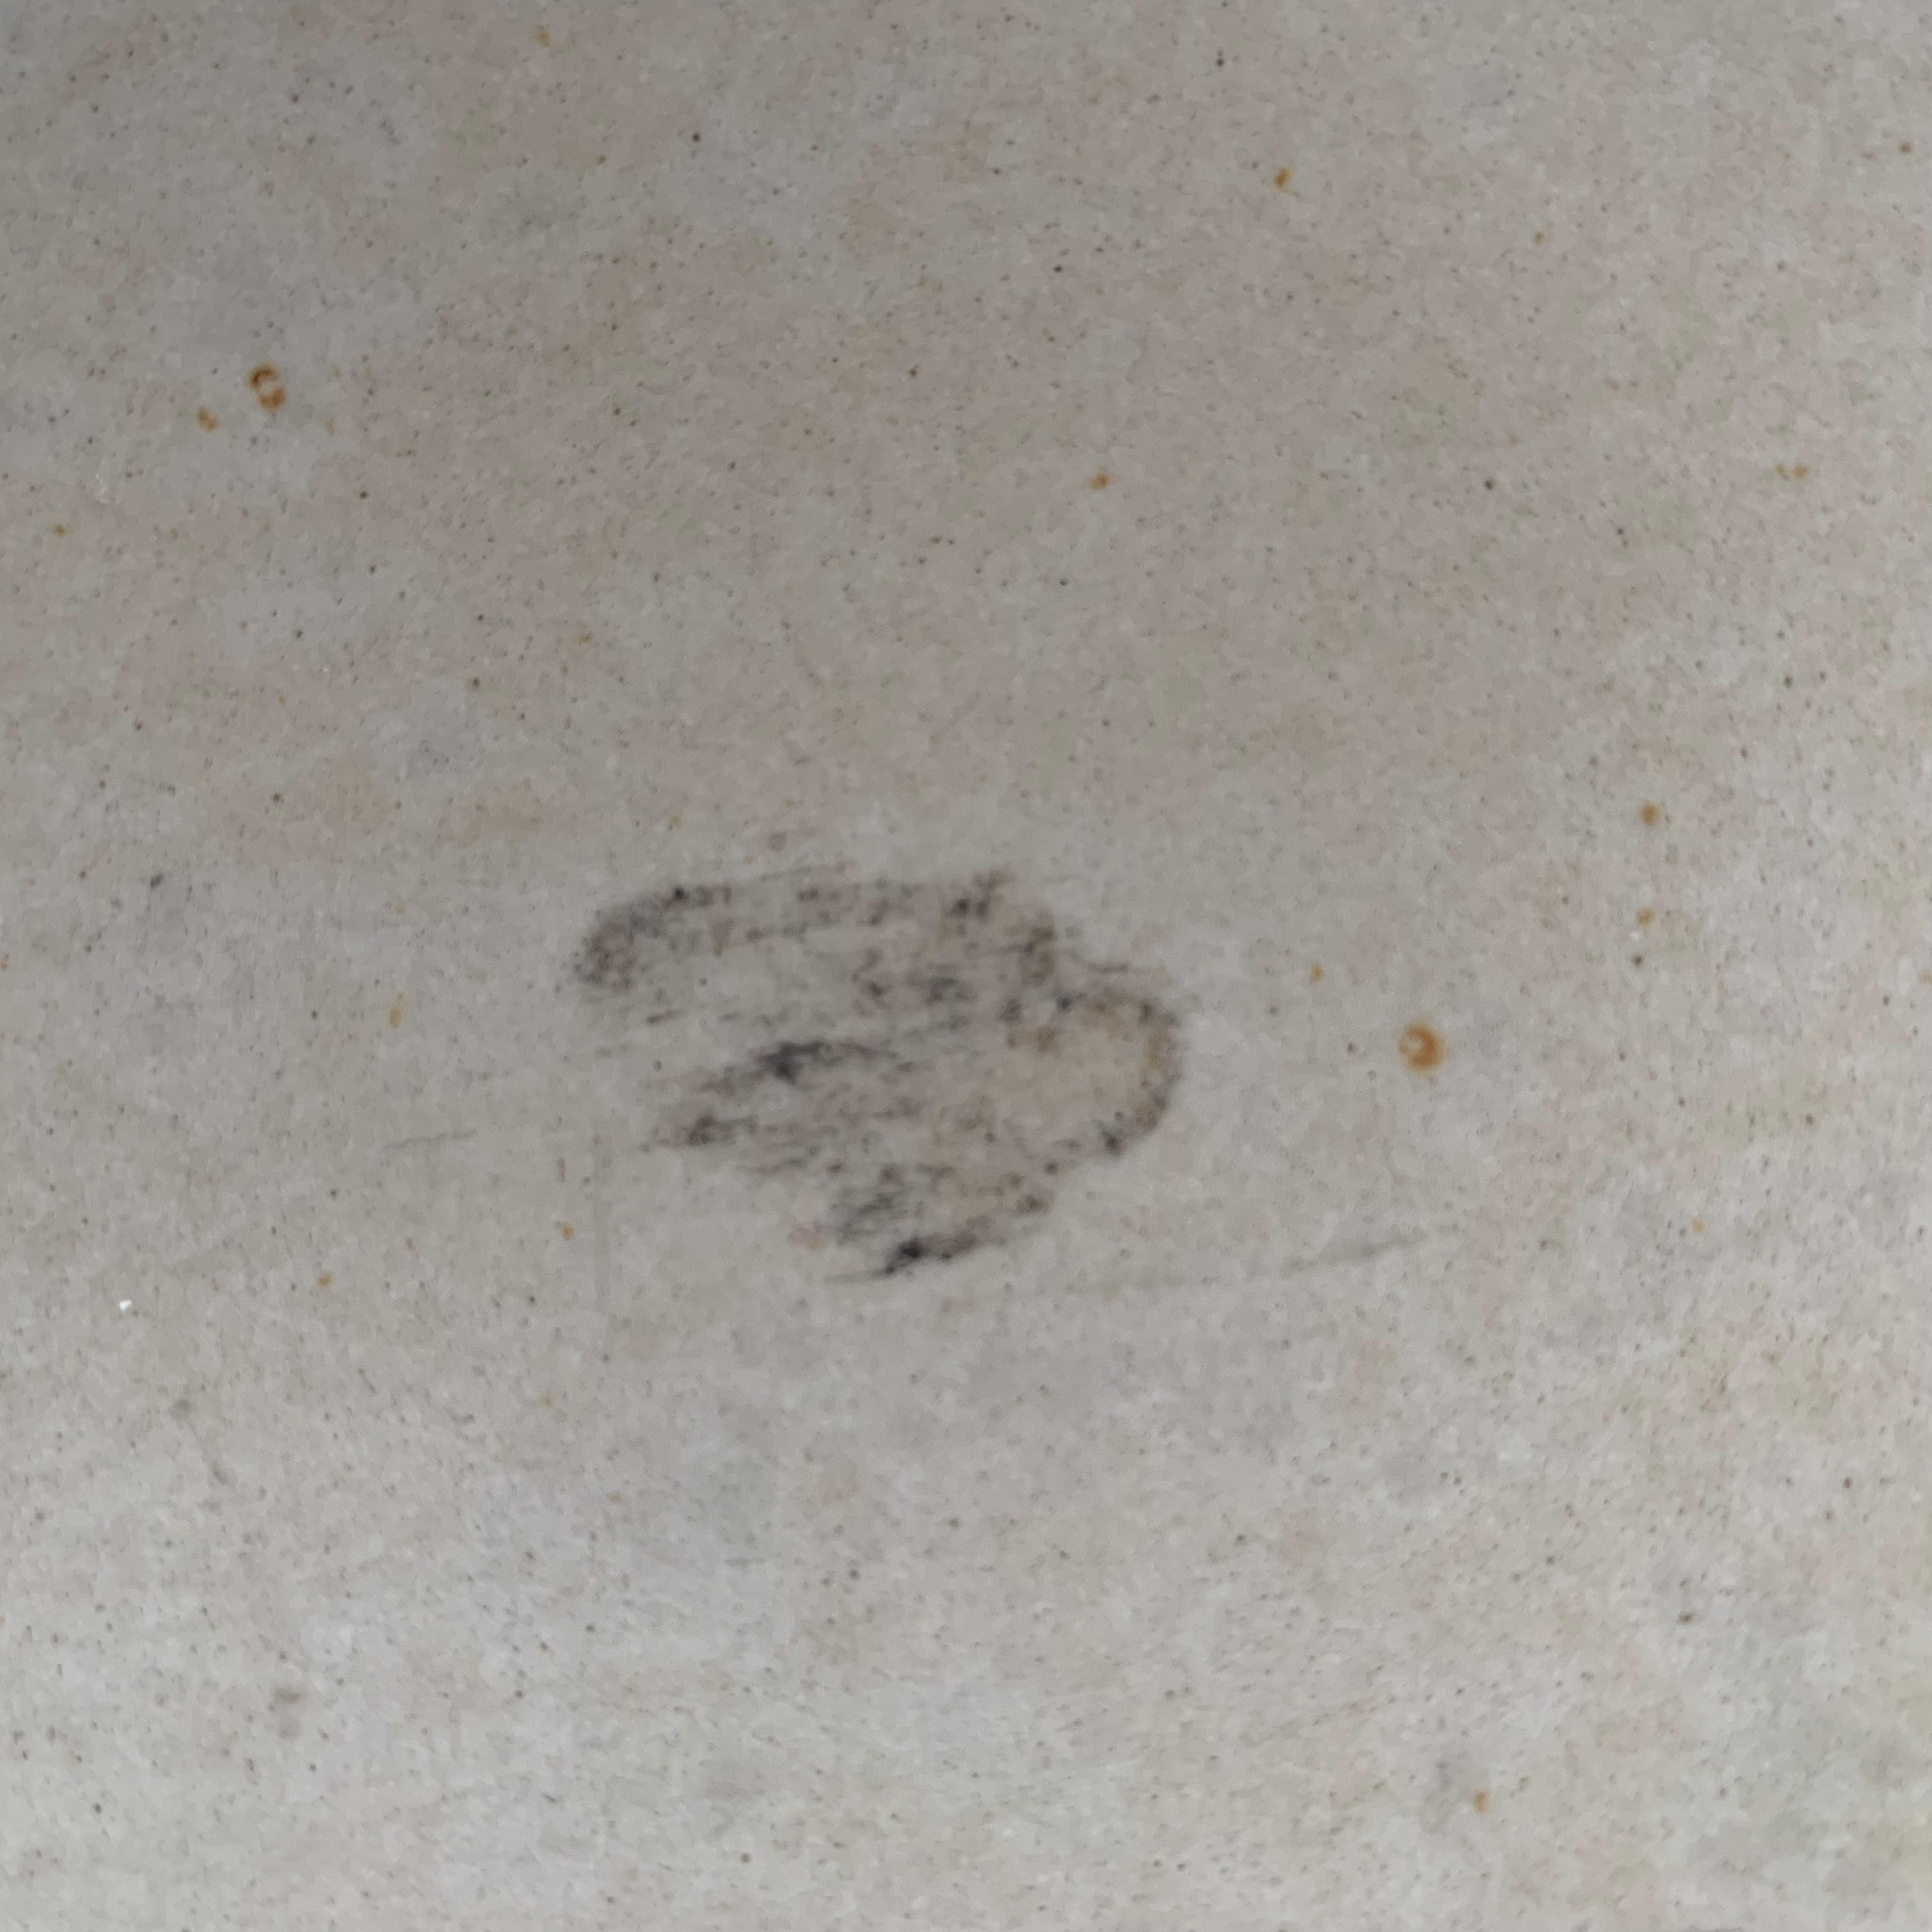grey spot: (568, 874, 1184, 1283)
